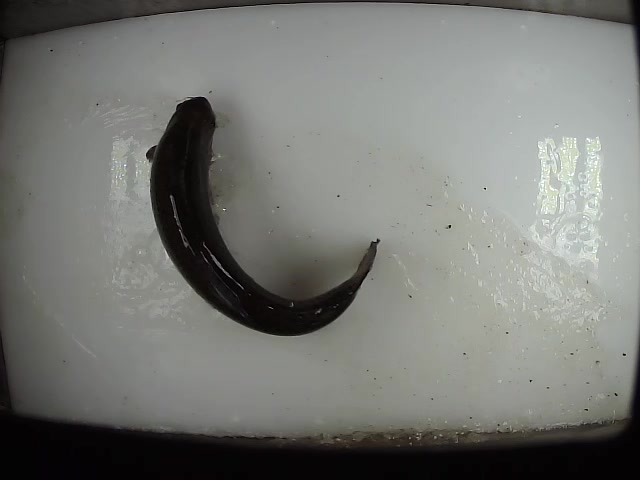fish: (144, 95, 382, 335)
